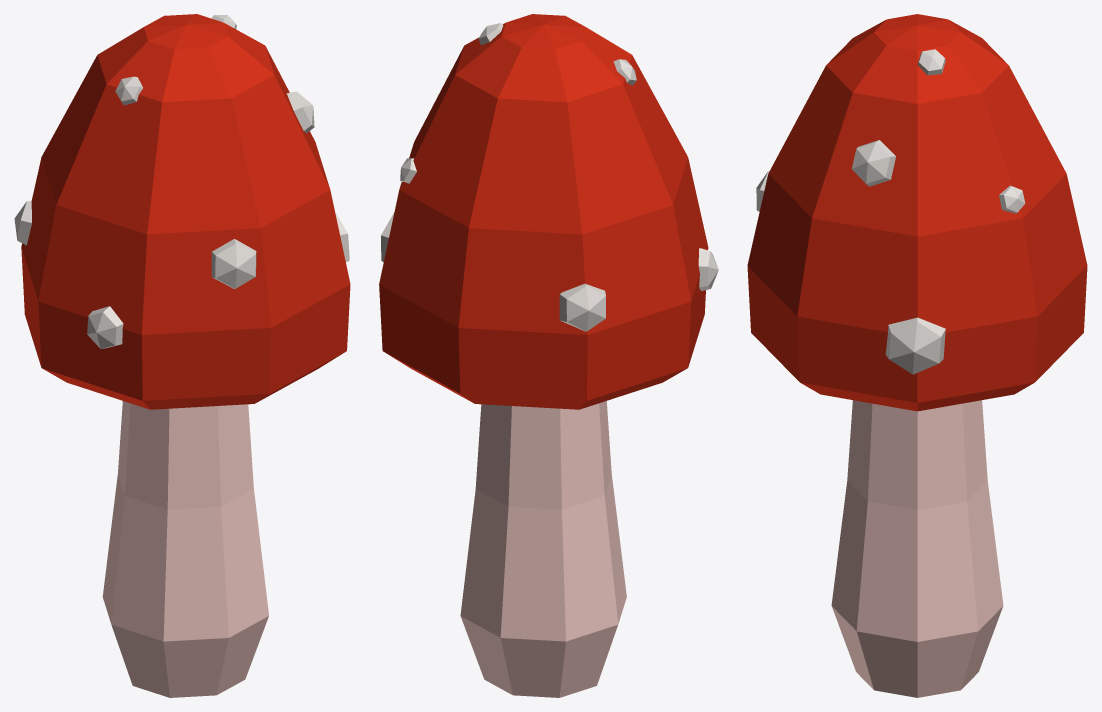
File: Mushroom_02.fbx
The picture shows the model from 3 angles, left to right: view 1: azimuth 30°, elevation 25°; view 2: azimuth 150°, elevation 25°; view 3: azimuth 270°, elevation 25°; orthographic projection.
Parts seen in each view (by area): view 1: Mushroom_02; view 2: Mushroom_02; view 3: Mushroom_02.
Boxes of the visible parts, x1,y1,x2,y2 form: Mushroom_02: [14, 14, 350, 697]; Mushroom_02: [379, 14, 718, 697]; Mushroom_02: [747, 14, 1087, 697].
Size of the model in its own units: 79.68 by 160 by 76.34.
